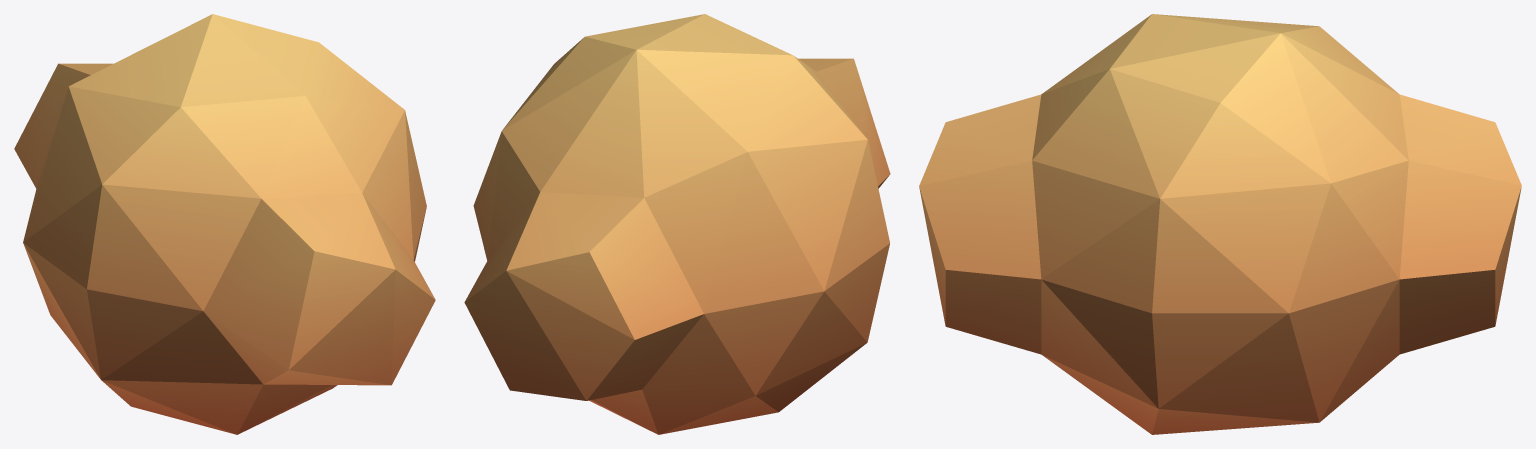
The model's file is VeladoFuego.fbx.
3 views of the same model, side by side, from view 1: azimuth 30°, elevation 25°; view 2: azimuth 150°, elevation 25°; view 3: azimuth 270°, elevation 25° (orthographic). The views are drawn at different scales.
Visible parts, largest first — view 1: Icosphere.007; view 2: Icosphere.007; view 3: Icosphere.007.
Boxes of the visible parts, x1=… form: Icosphere.007: x1=14, y1=14, x2=435, y2=434; Icosphere.007: x1=464, y1=14, x2=890, y2=434; Icosphere.007: x1=919, y1=14, x2=1521, y2=434.
Size of the model in its own units: 190 by 199 by 272.
